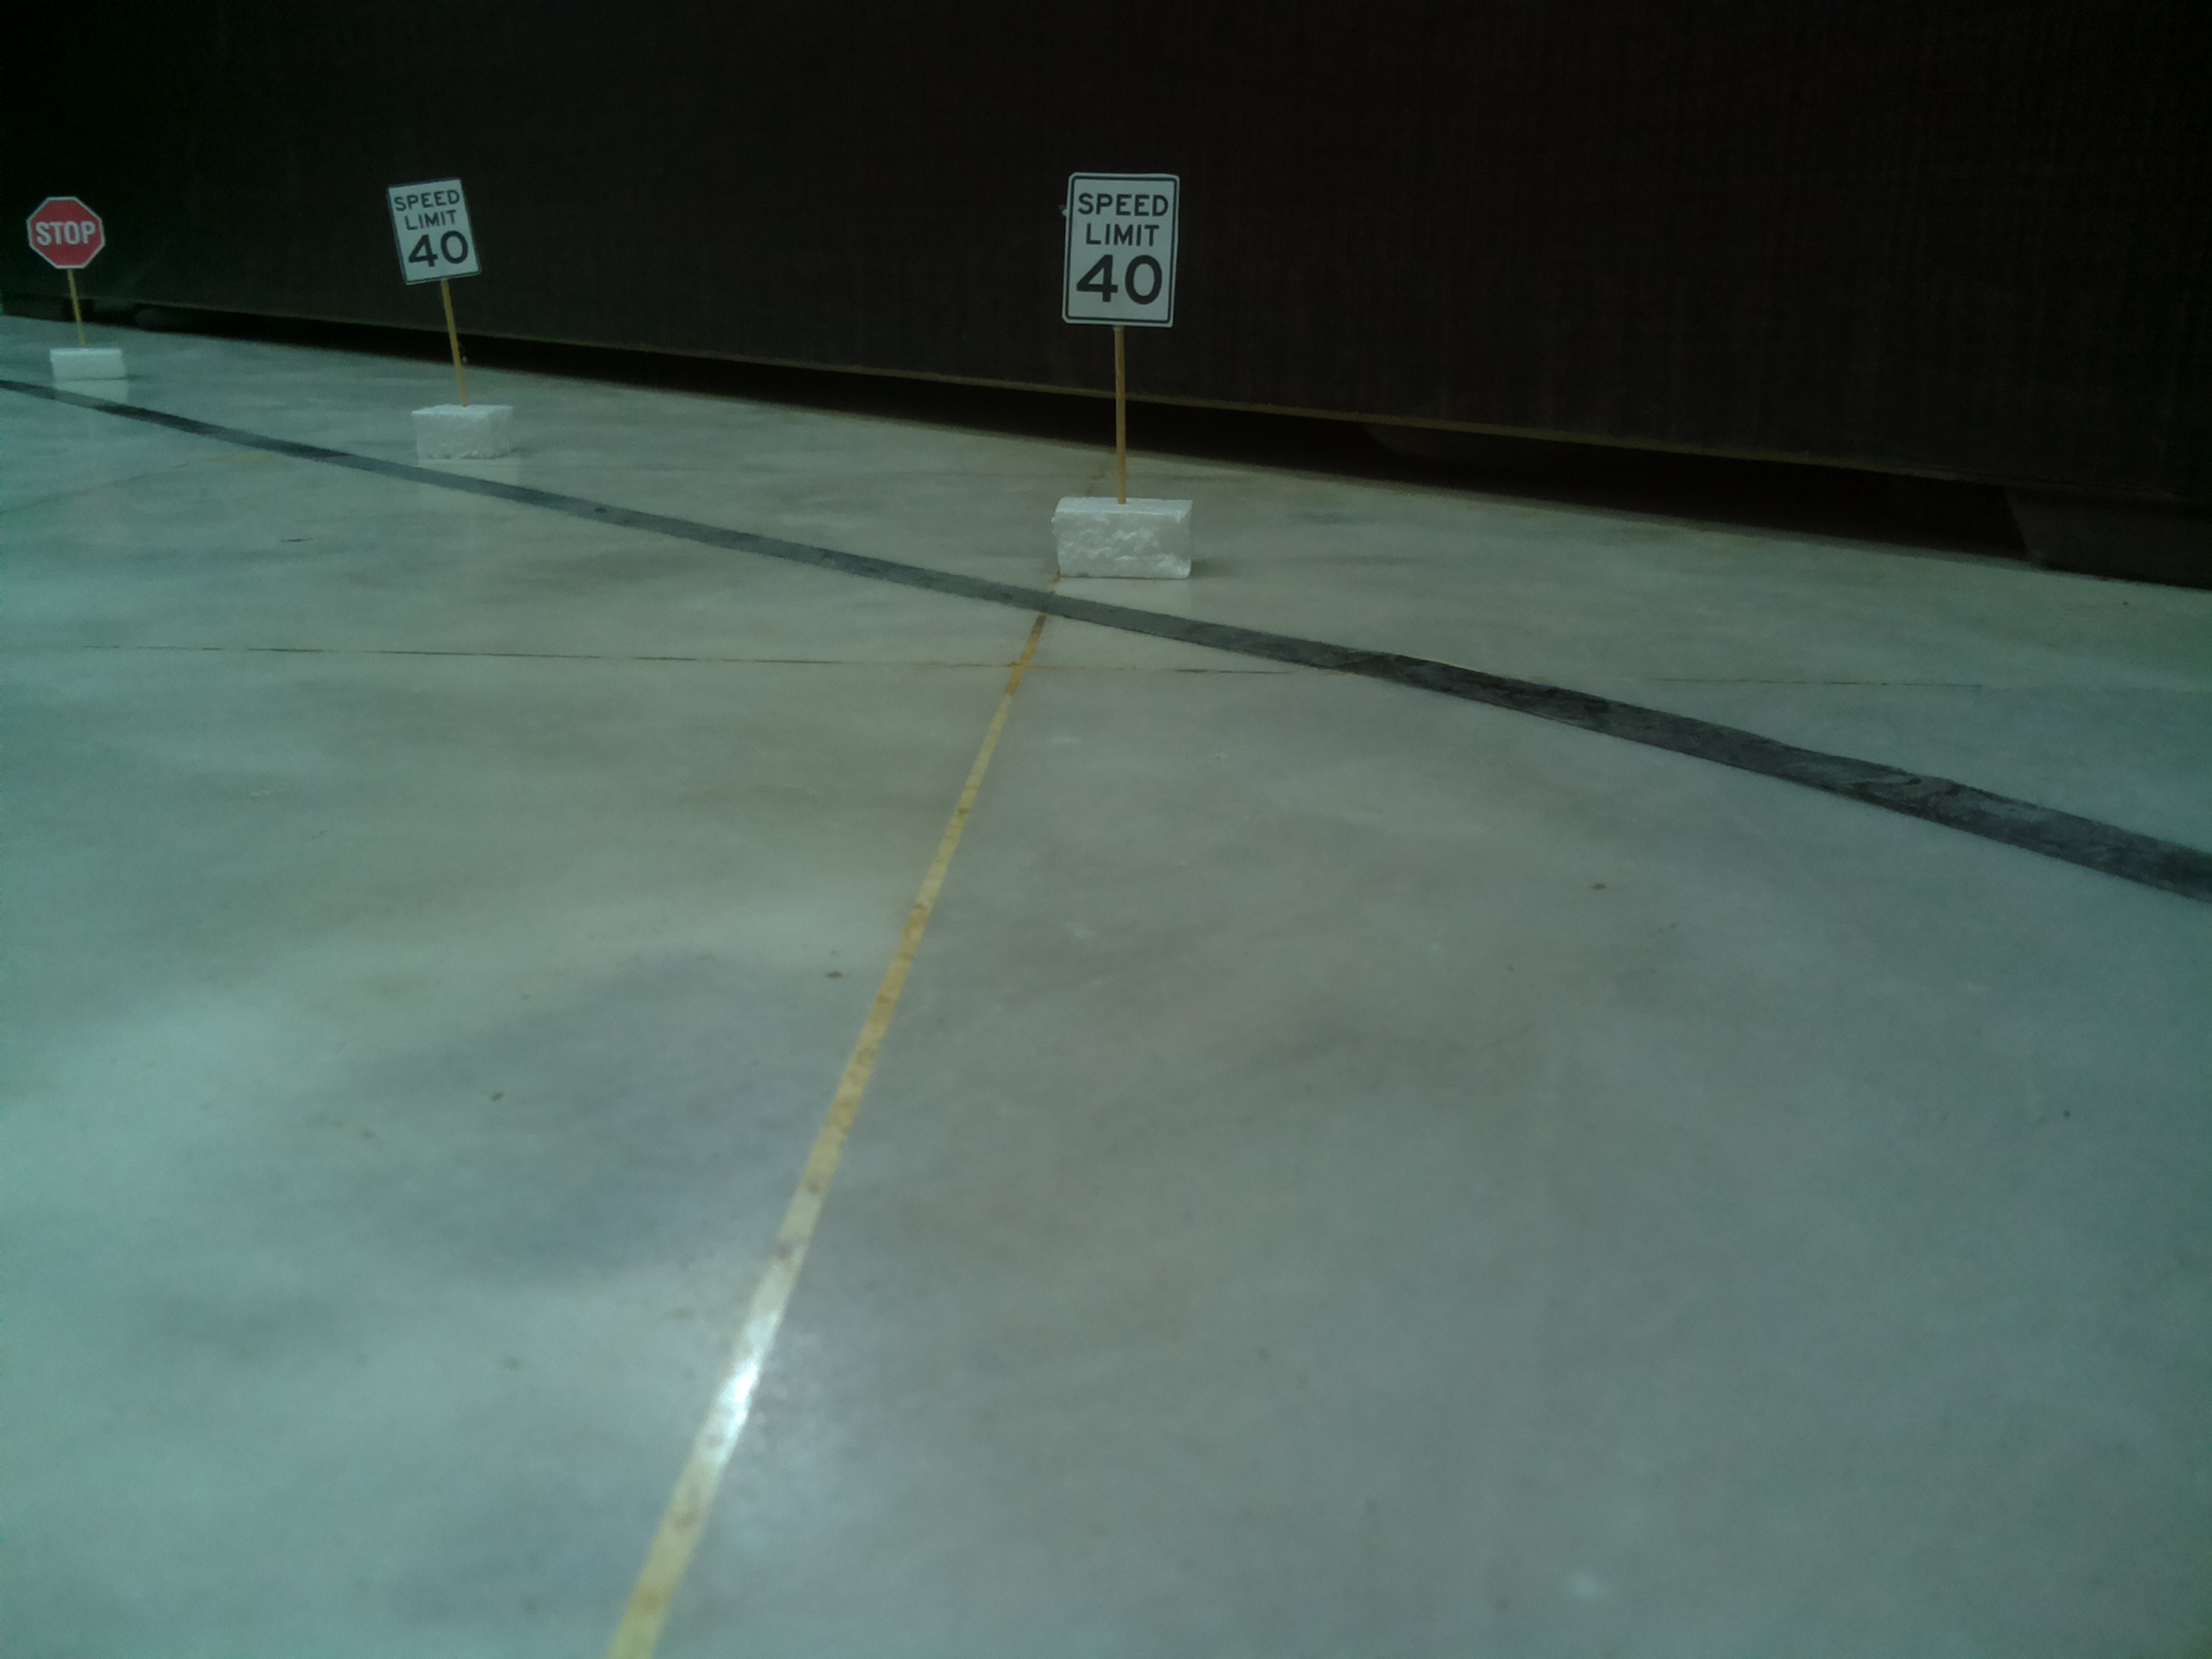Speed limit 40: (1064, 167, 1179, 329), (376, 174, 493, 282)
Stop sign: (10, 193, 122, 274)
